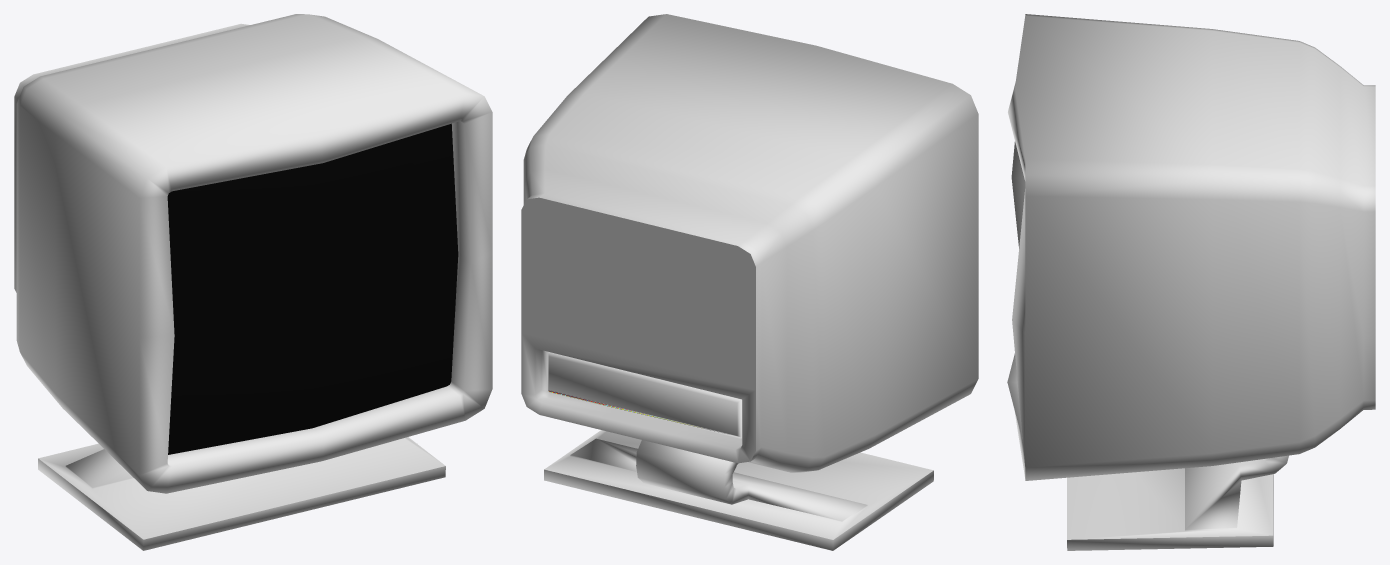
File: Computer.fbx
The picture shows the model from 3 angles, left to right: view 1: azimuth 30°, elevation 25°; view 2: azimuth 150°, elevation 25°; view 3: azimuth 270°, elevation 25°; orthographic projection. The views are drawn at different scales.
Parts seen in each view (by area): view 1: Computer; view 2: Computer; view 3: Computer.
Boxes of the visible parts, left/top/right/bottom form: Computer: left=14, top=14, right=492, bottom=550; Computer: left=521, top=14, right=978, bottom=550; Computer: left=1007, top=14, right=1375, bottom=550.
Size of the model in its own units: 45.08 by 48.76 by 41.59.
Materials: 1 (1 with a texture image).
